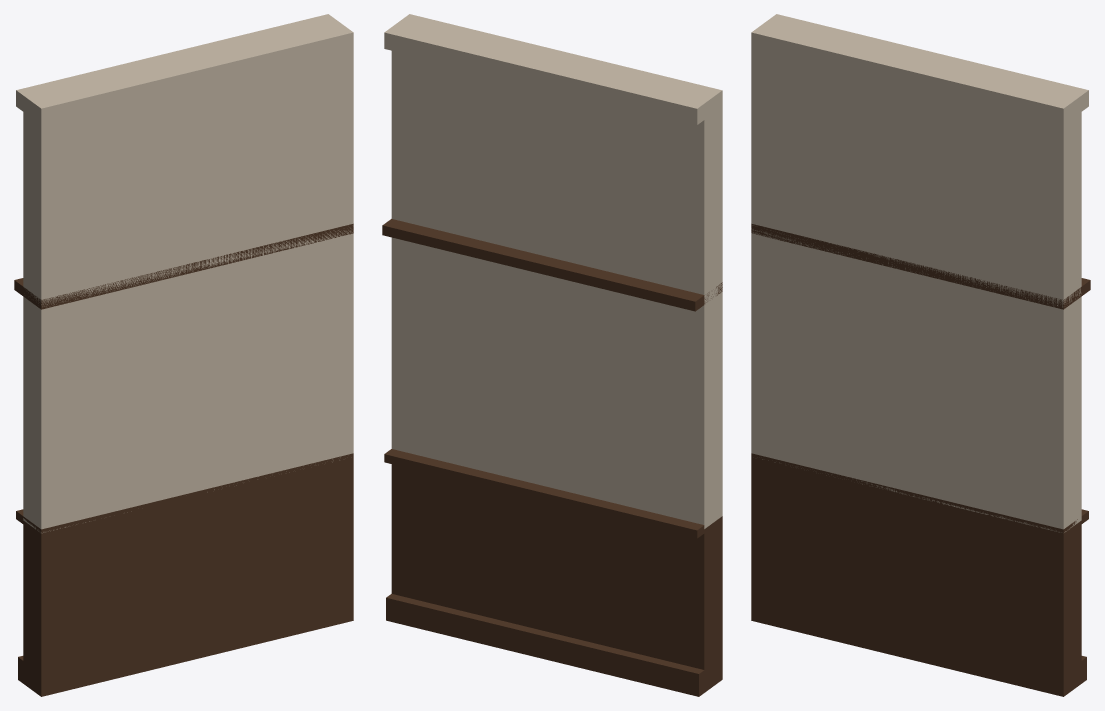
File: SM_K_SchWall.obj
The picture shows the model from 3 angles, left to right: view 1: azimuth 30°, elevation 25°; view 2: azimuth 150°, elevation 25°; view 3: azimuth 330°, elevation 25°; orthographic projection.
Visible parts, largest first — view 1: SM_K_SchWall; view 2: SM_K_SchWall; view 3: SM_K_SchWall.
Part boxes in pixels (x1=…): SM_K_SchWall: x1=14, y1=14, x2=353, y2=696; SM_K_SchWall: x1=382, y1=14, x2=722, y2=696; SM_K_SchWall: x1=751, y1=14, x2=1090, y2=696.
Size of the model in its own units: 2 by 3.6 by 0.3.
